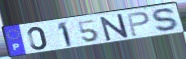0: (26, 26, 48, 51)
1: (56, 21, 74, 48)
5: (77, 19, 100, 43)
N: (98, 13, 130, 42)
P: (126, 11, 151, 38)
S: (151, 8, 183, 33)
